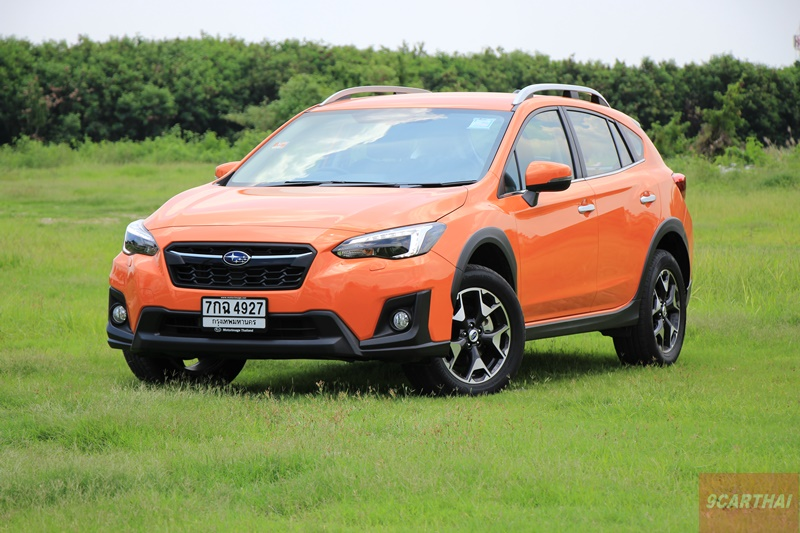pickup: (107, 82, 697, 396)
